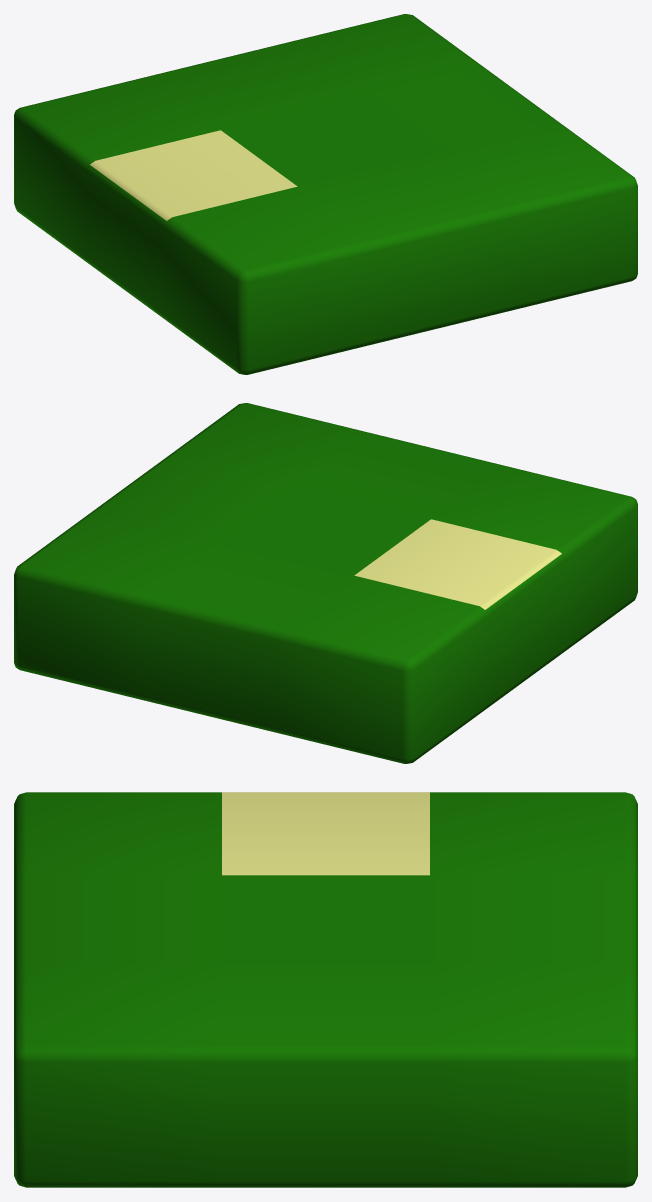
The model's file is start.glb.
3 renders of one model, top to bottom at view 1: azimuth 30°, elevation 25°; view 2: azimuth 150°, elevation 25°; view 3: azimuth 270°, elevation 25°, orthographic. The views are drawn at different scales.
Parts seen in each view (by area): view 1: Cube; view 2: Cube; view 3: Cube.
Boxes of the visible parts, box(x1,y1,x2,y2) form: Cube: box(14, 14, 637, 374); Cube: box(14, 403, 637, 763); Cube: box(14, 792, 637, 1187).
Size of the model in its own units: 0.5 by 0.125 by 0.5.
